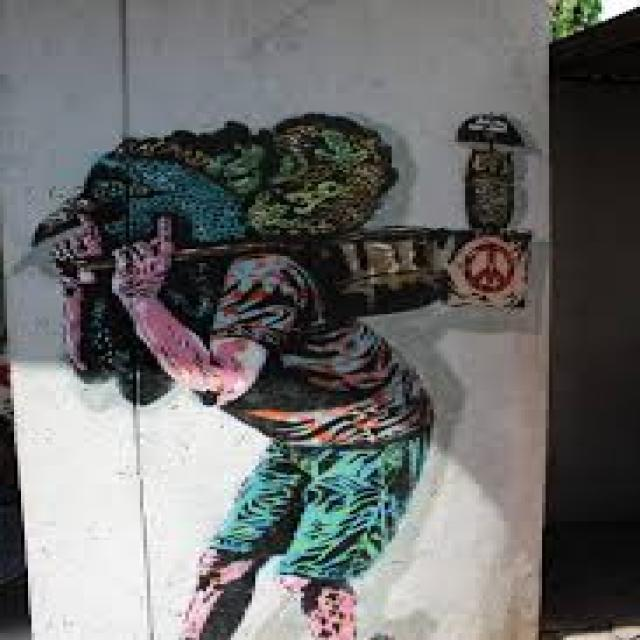-: (28, 114, 532, 640)
